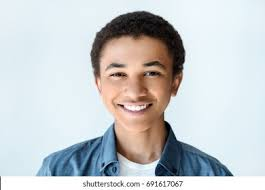person: (90, 11, 187, 132)
